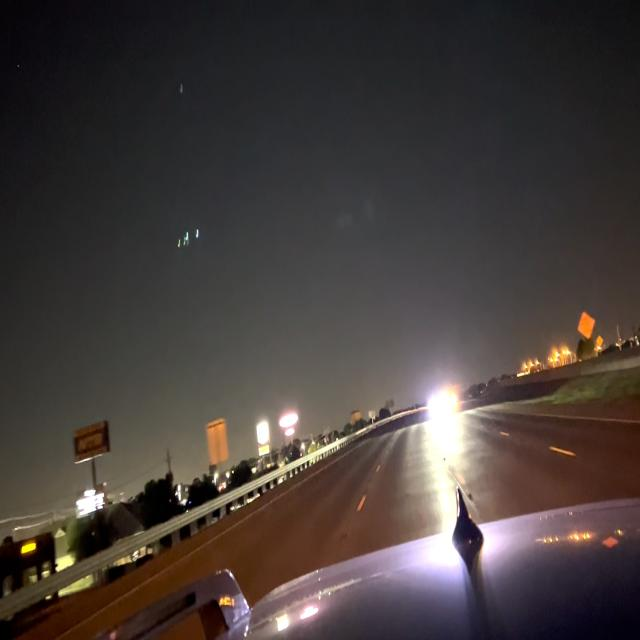back-of-sign: (207, 418, 228, 469)
